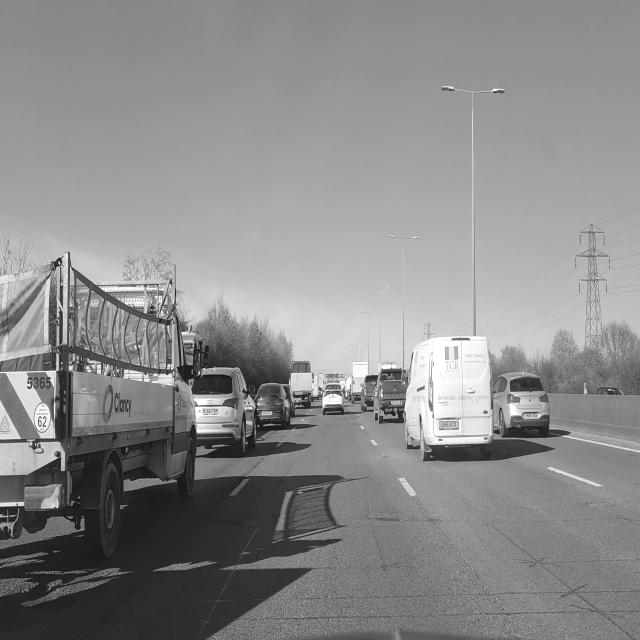car: (405, 336, 493, 461), (192, 368, 256, 454), (493, 372, 549, 437), (374, 369, 406, 423), (256, 383, 290, 427), (323, 386, 344, 415), (361, 375, 377, 411), (283, 384, 295, 417)
